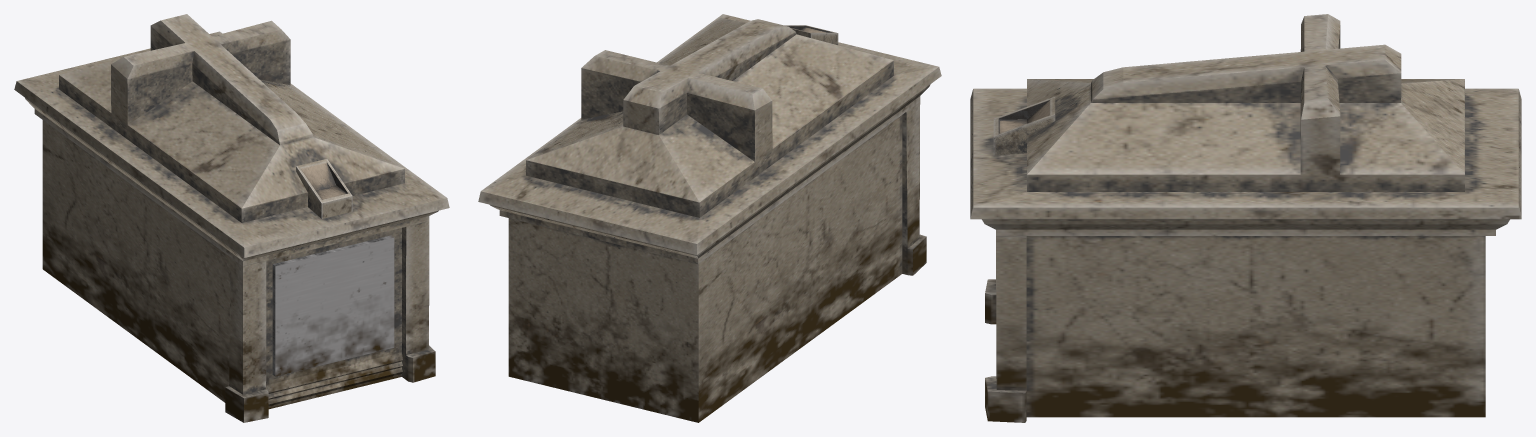
File: Tombstone Puzzle.fbx
3 renders of one model, left to right at view 1: azimuth 30°, elevation 25°; view 2: azimuth 150°, elevation 25°; view 3: azimuth 270°, elevation 25°, orthographic. The views are drawn at different scales.
Parts seen in each view (by area): view 1: Cube.001, Cube; view 2: Cube.001, Cube; view 3: Cube.001, Cube.
Part boxes in pixels (bbox=[...]): Cube.001: bbox=[14, 14, 449, 422]; Cube: bbox=[296, 158, 352, 218]; Cube.001: bbox=[478, 14, 941, 422]; Cube: bbox=[784, 25, 838, 45]; Cube.001: bbox=[970, 14, 1521, 422]; Cube: bbox=[993, 97, 1055, 155].
Bounding box in the file's own units: 127 × 155 × 247.
